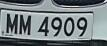0: (63, 15, 76, 39)
4: (36, 14, 51, 38)
9: (50, 15, 64, 39), (76, 15, 88, 39)
M: (5, 11, 20, 38), (19, 12, 33, 39)
